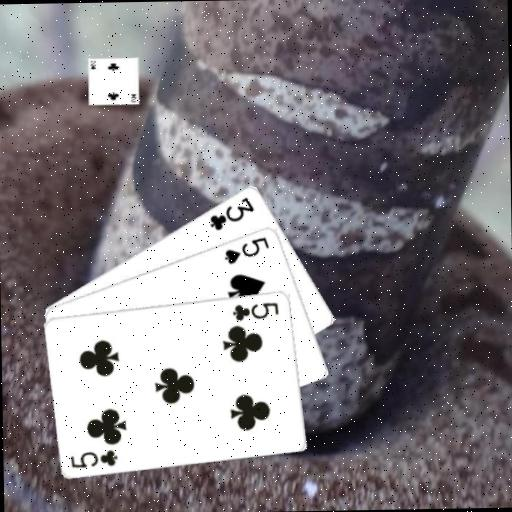3C: (206, 194, 257, 232)
5C: (230, 299, 281, 323), (69, 446, 120, 470)
5S: (221, 233, 272, 265)
